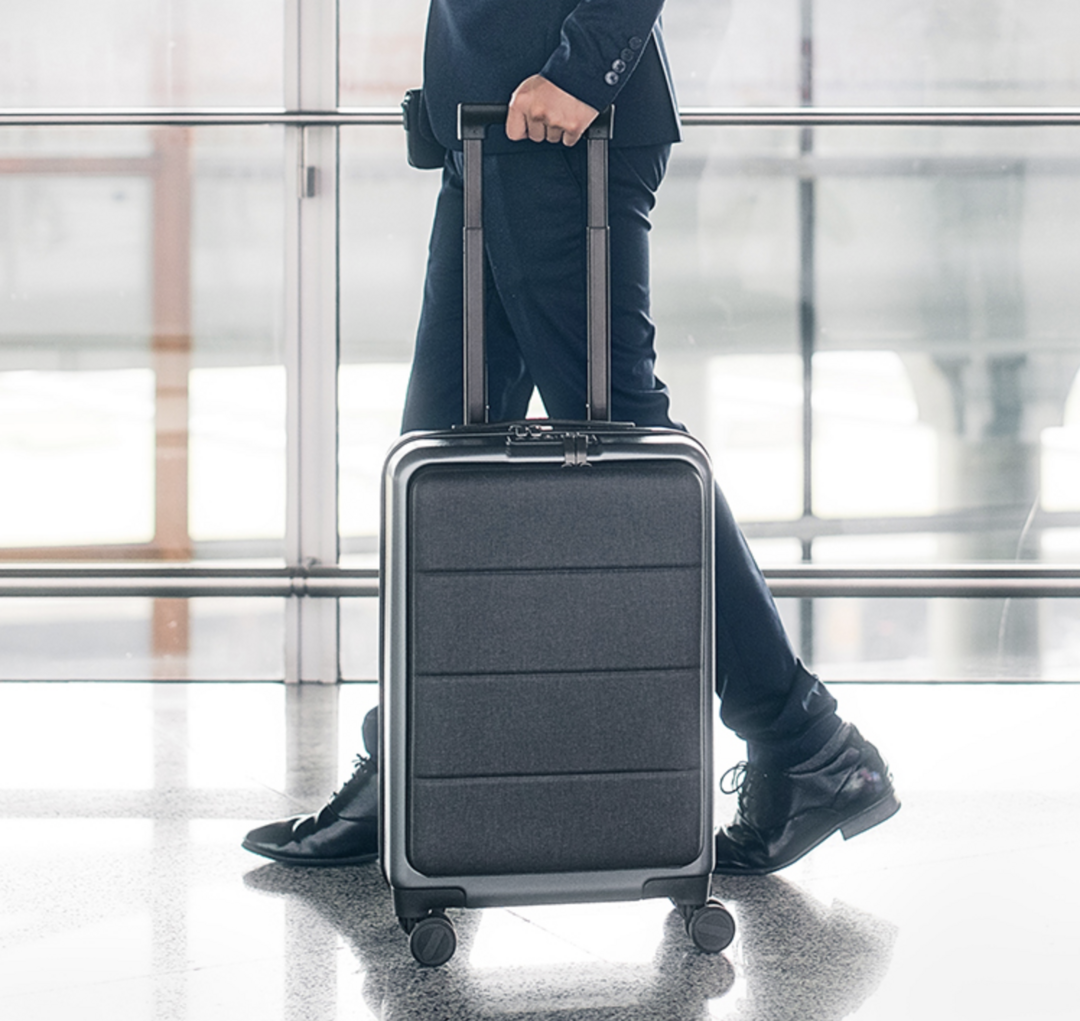box: (382, 429, 714, 911)
handle: (452, 416, 637, 435)
lock: (505, 431, 603, 457)
wheel: (685, 898, 736, 953), (409, 911, 457, 968)
